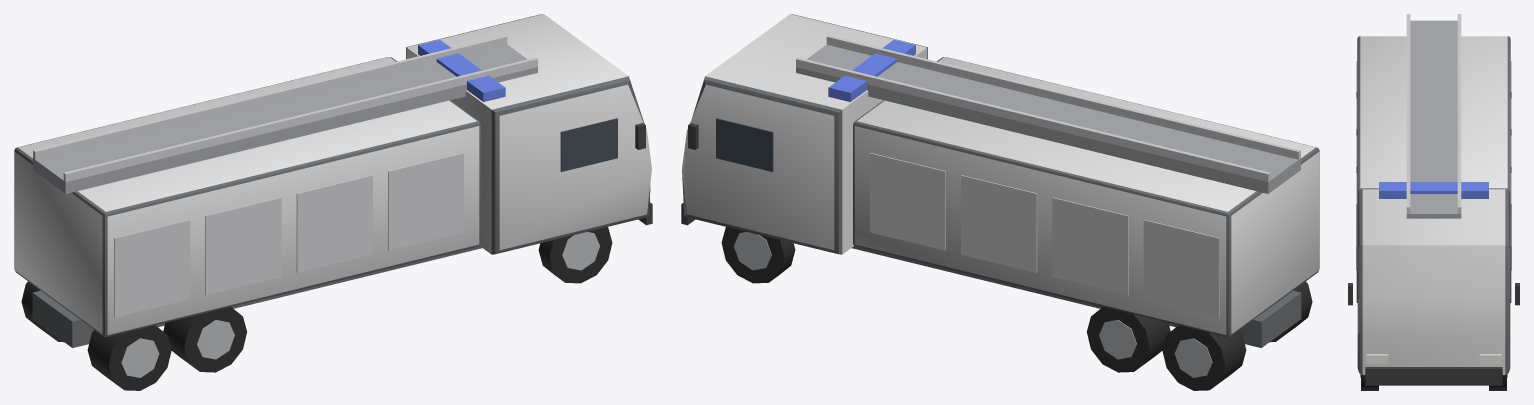
File: firetruck.glb
The picture shows the model from 3 angles, left to right: view 1: azimuth 30°, elevation 25°; view 2: azimuth 150°, elevation 25°; view 3: azimuth 270°, elevation 25°; orthographic projection. The views are drawn at different scales.
Parts seen in each view (by area): view 1: firetruck; view 2: firetruck; view 3: firetruck.
Boxes of the visible parts, <box> form: firetruck: <box>14,14,652,390</box>; firetruck: <box>681,14,1319,390</box>; firetruck: <box>1348,14,1519,390</box>.
Bounding box in the file's own units: 8.93 × 3.16 × 2.82.
